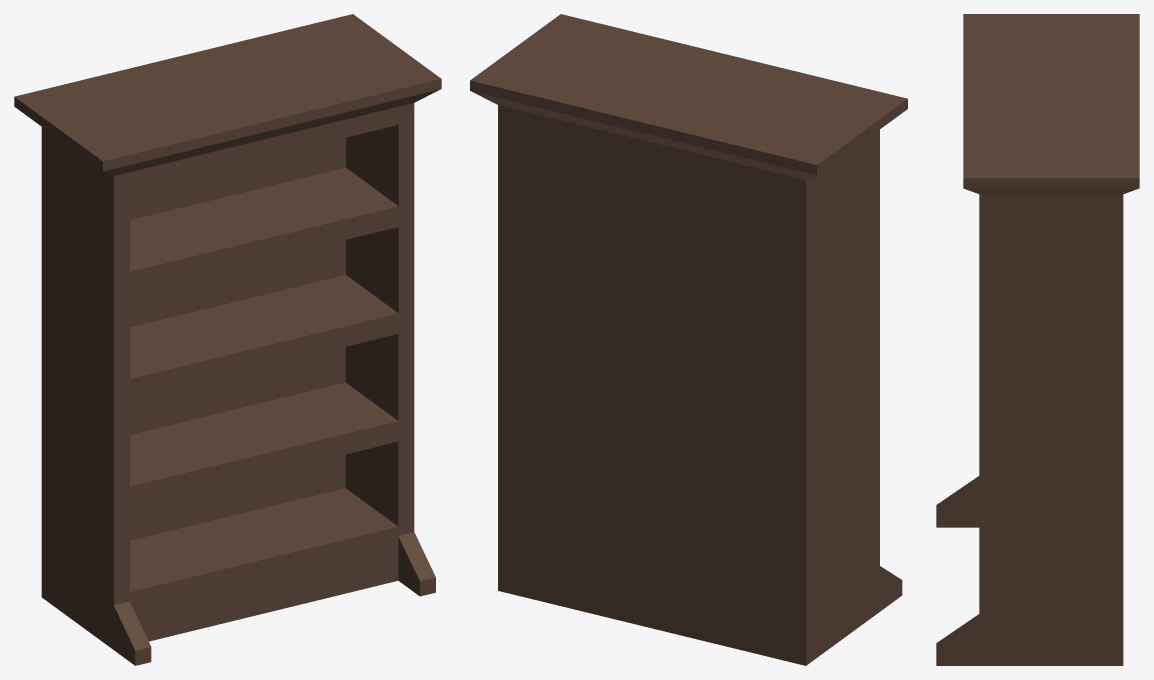
Rendered from etagere.FBX.
3 views of the same model, side by side, from view 1: azimuth 30°, elevation 25°; view 2: azimuth 150°, elevation 25°; view 3: azimuth 270°, elevation 25° (orthographic). The views are drawn at different scales.
Parts seen in each view (by area): view 1: etagère; view 2: etagère; view 3: etagère.
Part boxes in pixels (x1,y1,x2,y2): etagère: (14, 14, 441, 665); etagère: (470, 14, 907, 665); etagère: (936, 14, 1139, 665).
Bounding box in the file's own units: 101 × 142 × 52.57.
Materials: 1 (1 with a texture image).
